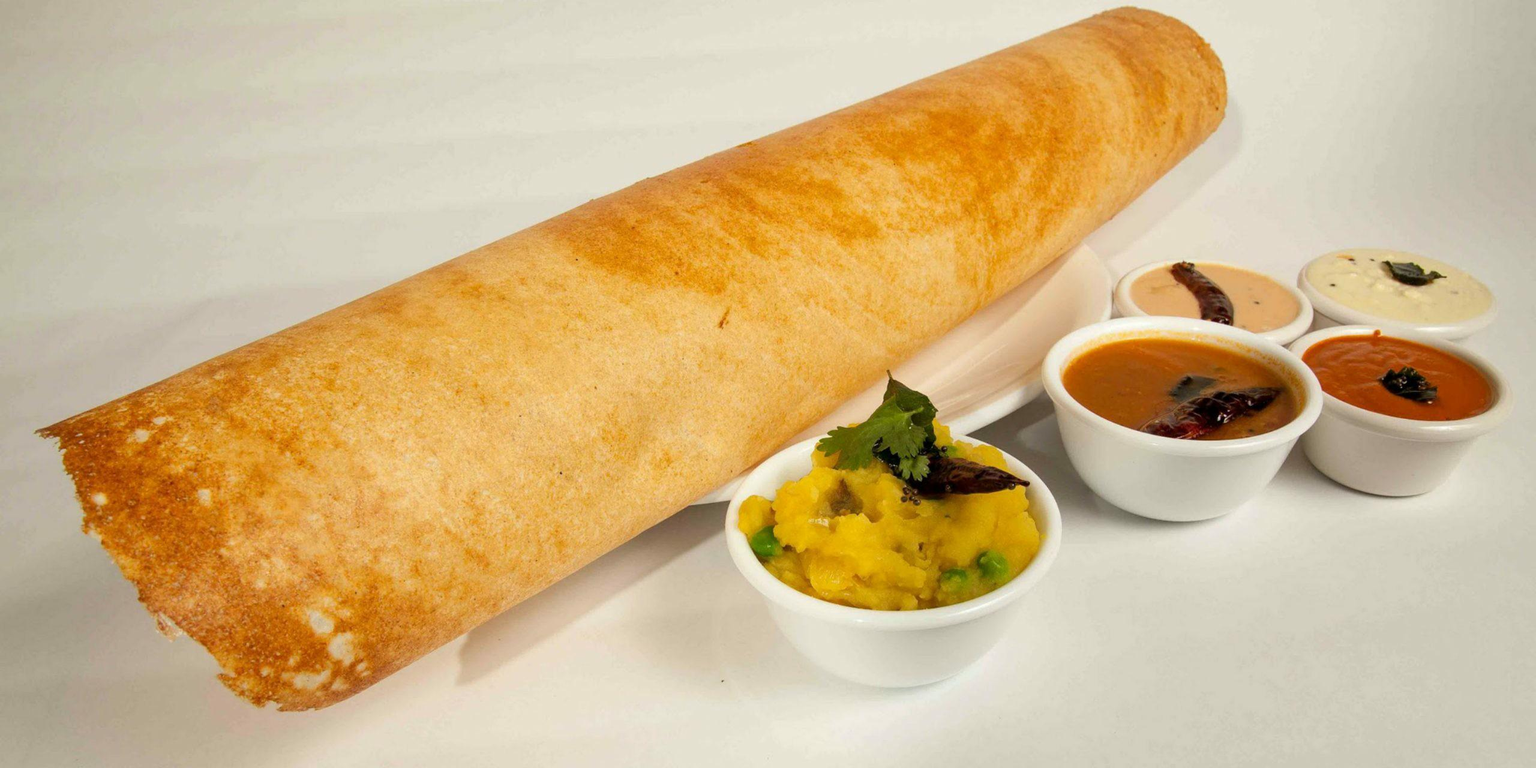CoconutChutney: (1305, 250, 1492, 327)
Dosa: (35, 7, 1224, 716)
